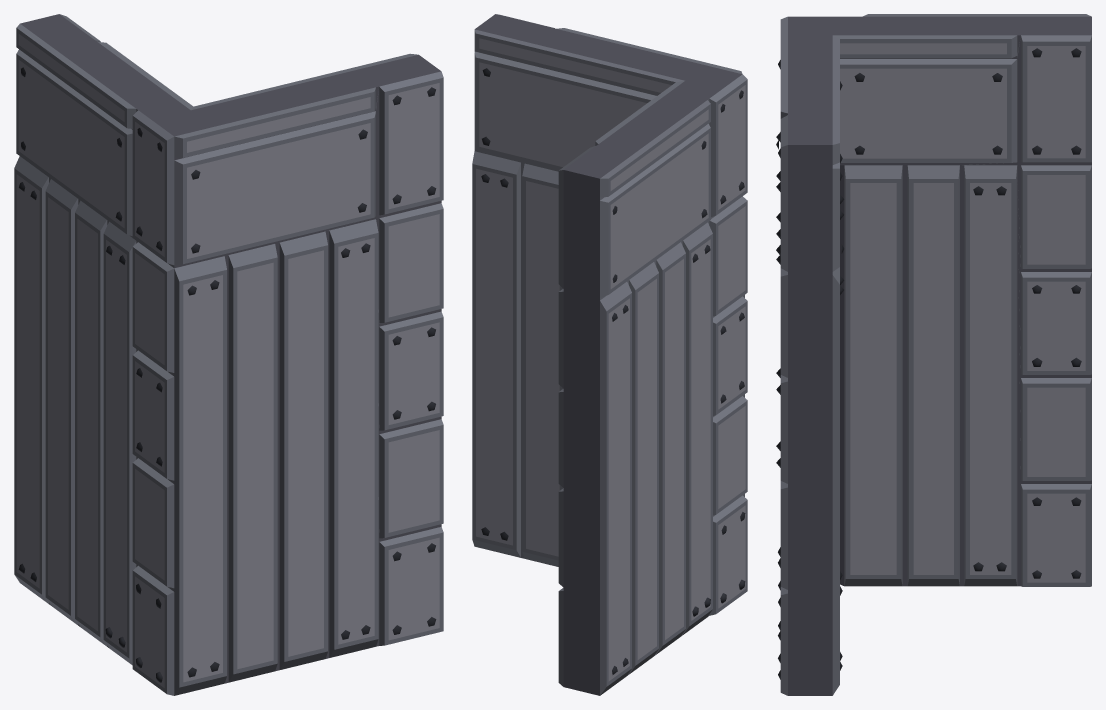
Rendered from MetalBoltsCorner.glb.
3 views of the same model, side by side, from view 1: azimuth 30°, elevation 25°; view 2: azimuth 150°, elevation 25°; view 3: azimuth 270°, elevation 25° (orthographic). The views are drawn at different scales.
Visible parts, largest first — view 1: wall_BoltPanels_corner; view 2: wall_BoltPanels_corner; view 3: wall_BoltPanels_corner.
Boxes of the visible parts, left/top/right/bottom form: wall_BoltPanels_corner: left=14, top=14, right=443, bottom=695; wall_BoltPanels_corner: left=472, top=14, right=747, bottom=695; wall_BoltPanels_corner: left=776, top=14, right=1091, bottom=695.
Size of what is drawn, in the model's own units: 2.08 by 4 by 2.08.
Materials: 1 (1 with a texture image).
